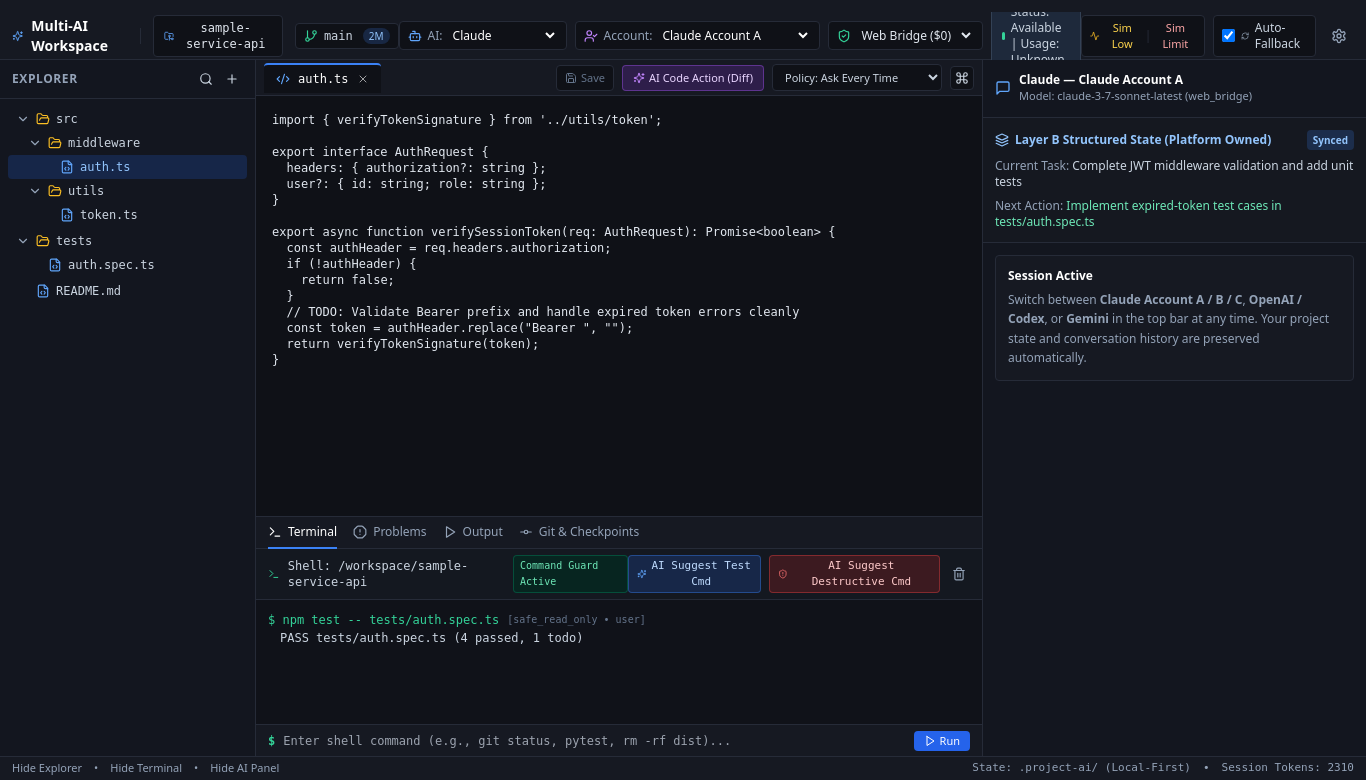
Test: Phase 4: Monaco Code Editor, Multi-Tab Buffers & Safe AI Diff Approval › enforces Safe AI Diff workflow: AI proposes diff -> shows side-by-side preview -> applies only on User Approval
The image size is (1366, 780).
Note: Trigger AI Code Action (Diff Proposal)
Click the button with test id "propose-ai-diff-btn" at (693, 78), box [622,64,764,90]
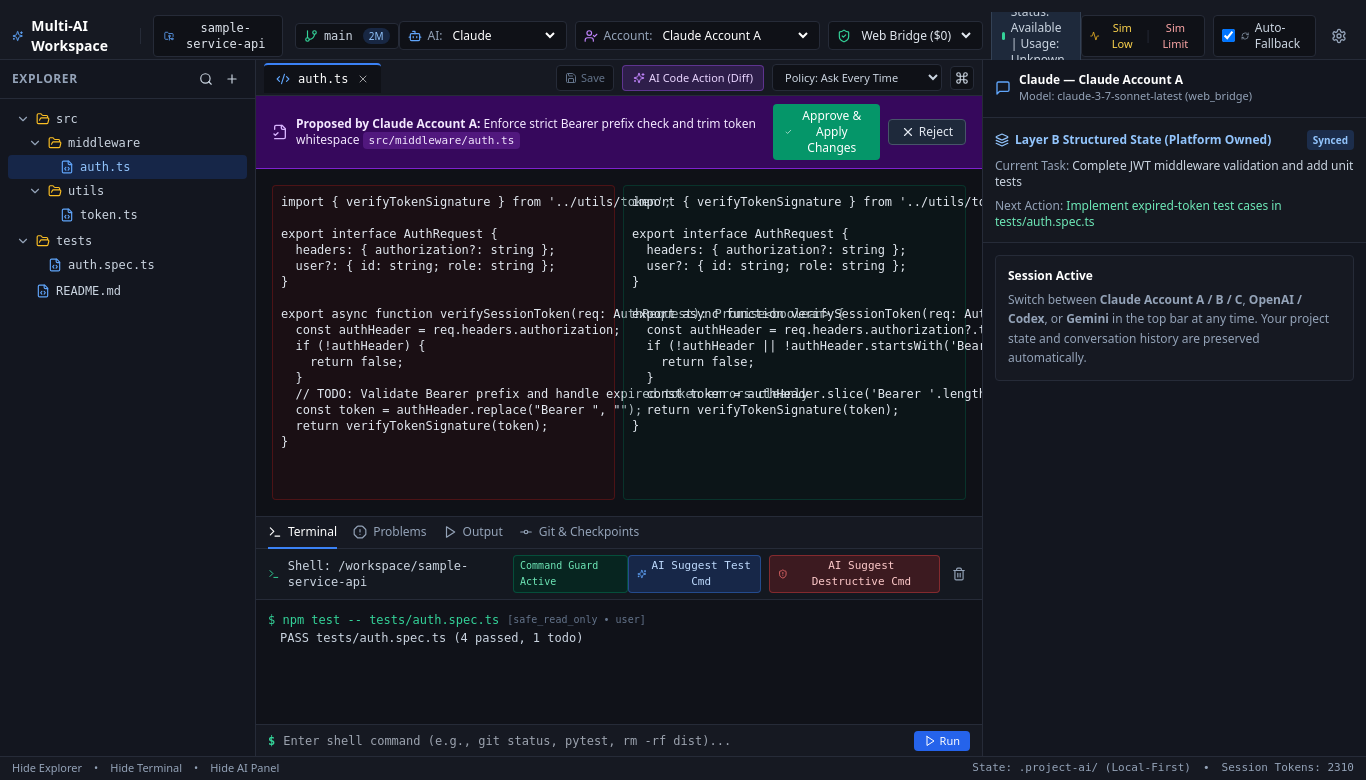
expect the element with test id "ai-diff-review-banner" shows "Enforce strict Bearer prefix check": met, box [296,114,756,148]
expect the text with test id "diff-proposed-code" shows "authHeader.startsWith('Bearer ')": met, box [632,195,982,433]
Note: Approve the AI diff
Click the button with test id "approve-ai-diff-btn" at (826, 132), box [773,104,880,160]
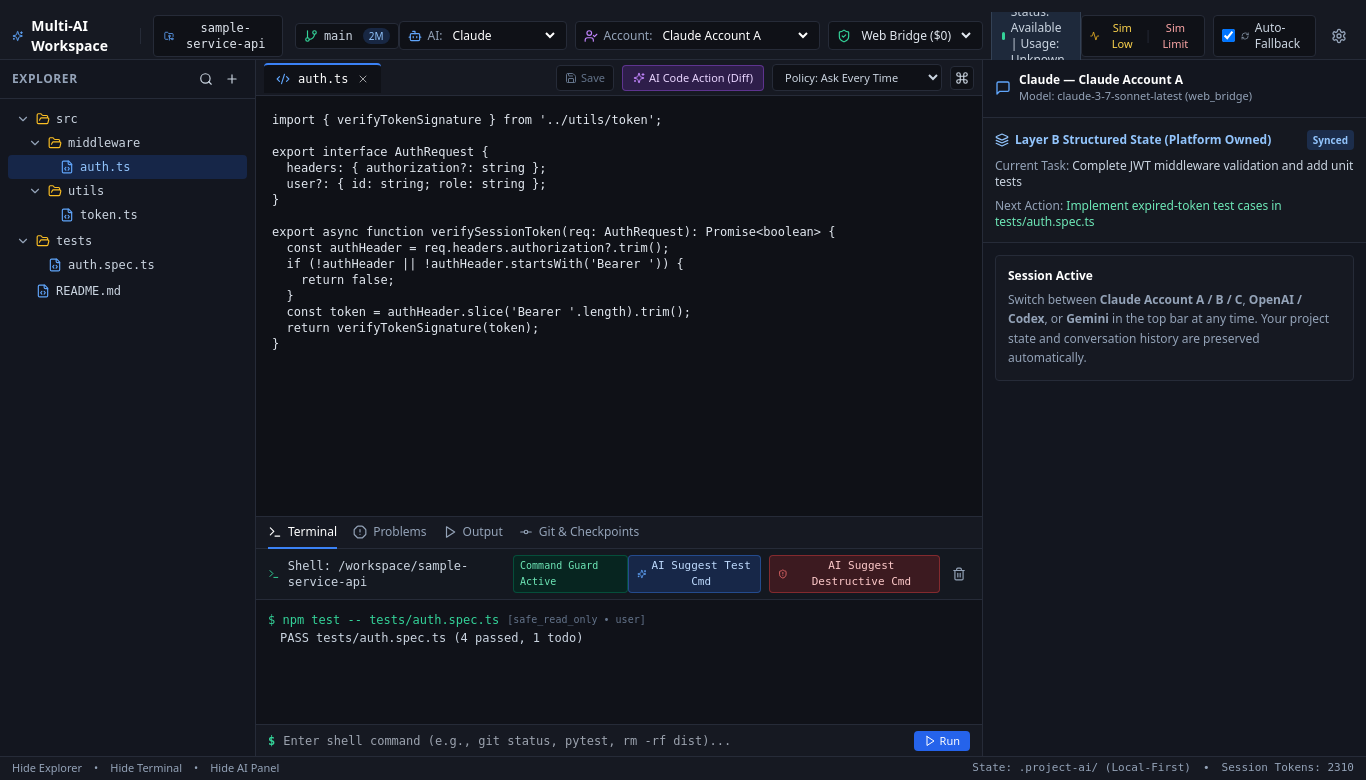
expect the element with test id "ai-diff-review-banner" is gone: met
